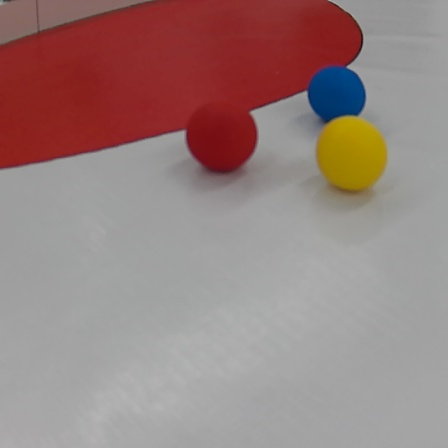blue: (306, 67, 372, 119)
red: (180, 99, 260, 176)
red_base: (0, 0, 364, 174)
yellow: (315, 116, 388, 193)
